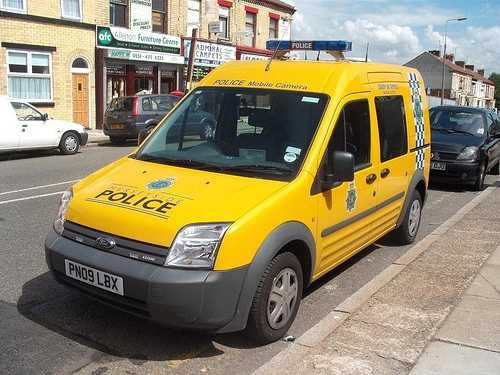Police Car: (51, 29, 433, 338)
